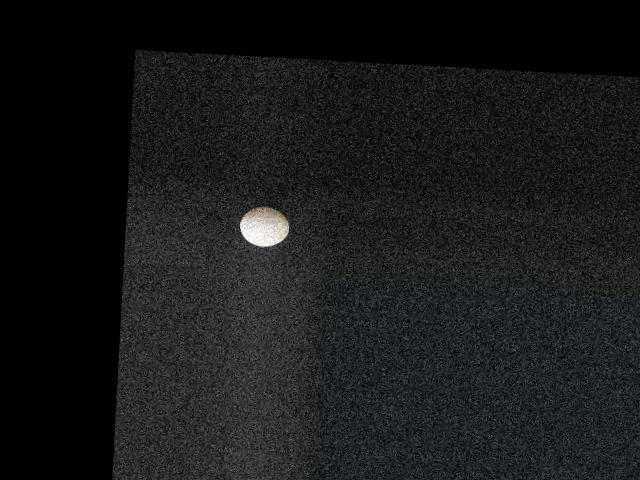egg: (240, 205, 291, 247)
